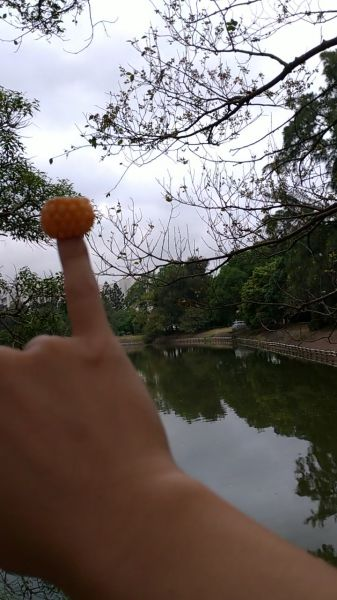eggs: (39, 192, 94, 239)
